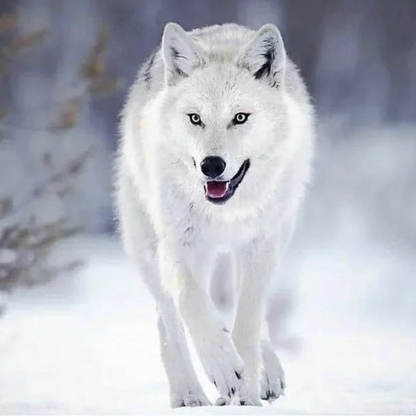husky: (108, 16, 323, 411)
